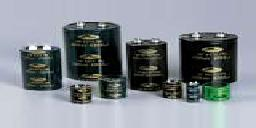Electrolytic-Capacitor: (64, 20, 126, 78), (179, 31, 240, 85), (124, 35, 172, 91), (15, 44, 64, 95), (99, 75, 132, 103), (201, 78, 231, 102), (160, 76, 184, 100), (69, 81, 91, 104), (187, 79, 199, 103)
